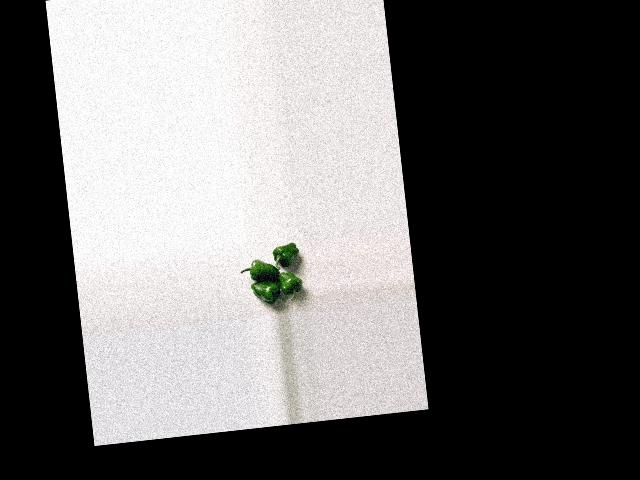bell_pepper: (280, 268, 303, 300)
